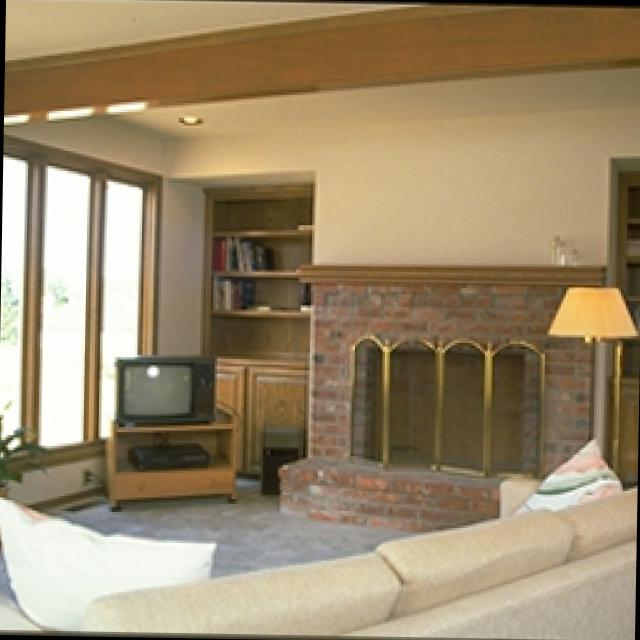2001: (35, 168, 87, 443), (98, 181, 137, 431), (0, 154, 20, 447)
books crop: (211, 233, 268, 267), (210, 276, 253, 306)
bookshelves: (202, 185, 310, 352)
box contants: (256, 421, 301, 494)
cabinet door: (208, 356, 304, 474)
ceiling beam: (3, 0, 639, 132), (4, 0, 640, 115)
ceiling lamps: (176, 108, 201, 123)
door handle: (593, 152, 638, 480)
fire place: (363, 346, 522, 466)
fireplace mantle: (272, 260, 599, 530)
floor -X: (49, 489, 429, 571)
lamp crop: (542, 287, 632, 435)
pillow occluded: (0, 496, 211, 628), (514, 440, 617, 504)
plant -x: (0, 399, 48, 489)
sofa bed: (72, 488, 630, 635)
television: (103, 401, 231, 504)
television cabinet: (112, 356, 212, 416)
vases: (539, 229, 576, 262)
vcr: (123, 438, 205, 467)
wall clock: (3, 103, 639, 257)
wall outlets: (77, 463, 87, 478)
